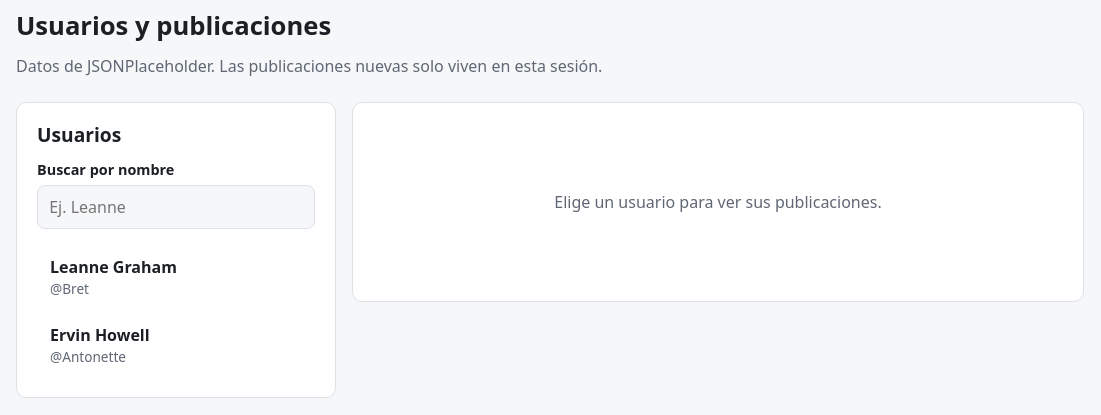
Test case: Aplicación de Usuarios y Publicaciones › 1. Muestra la lista de usuarios y permite filtrar por nombre
Later steps or results of the test are not shown.
Expected: the text "Leanne Graham" is shown, [50,255,177,279]
Expected: the text "Ervin Howell" is shown, [50,323,150,347]
Type "Ervin" into the search field named "buscar usuario" at [176, 207], box [37,185,315,229]
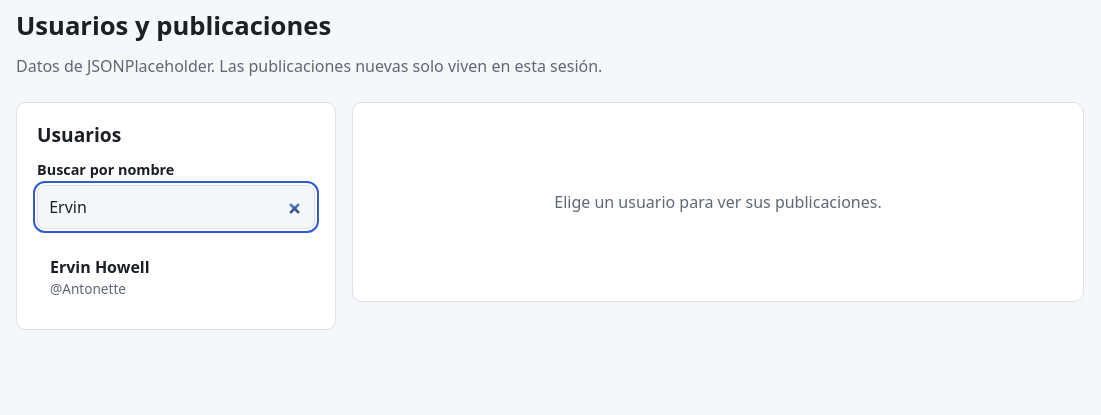
Expected: the text "Ervin Howell" is shown, [50,255,150,279]
Now the button "Leanne Graham" is gone
